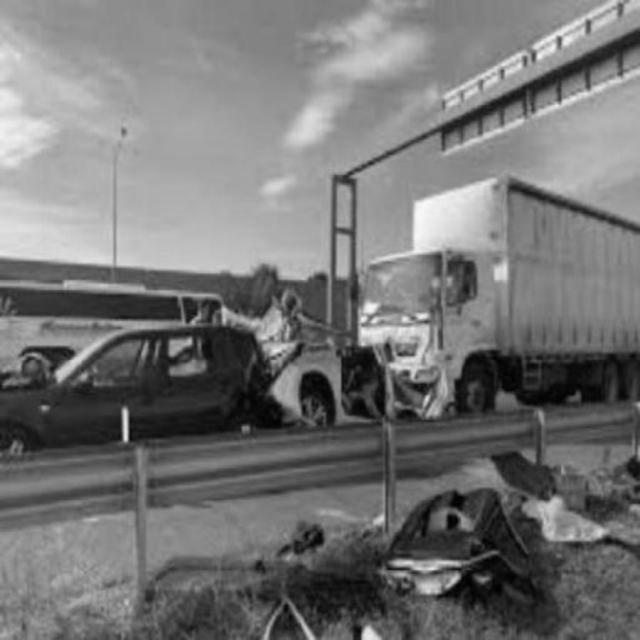accident: (7, 181, 590, 433)
